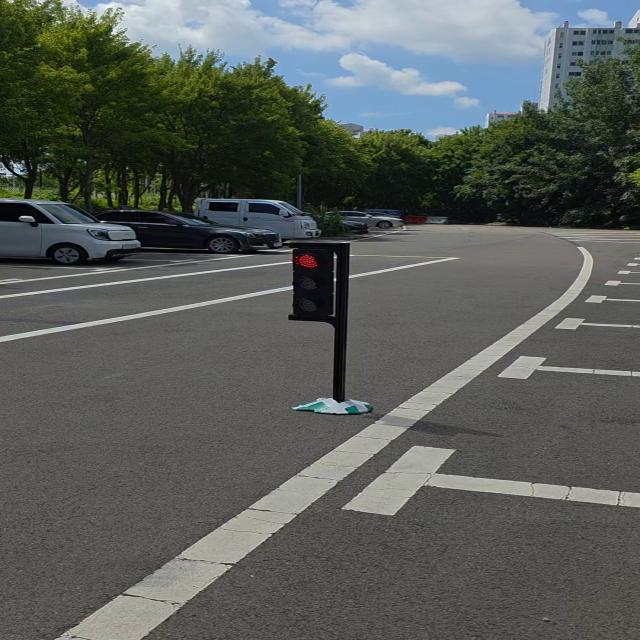red: (276, 236, 358, 326)
